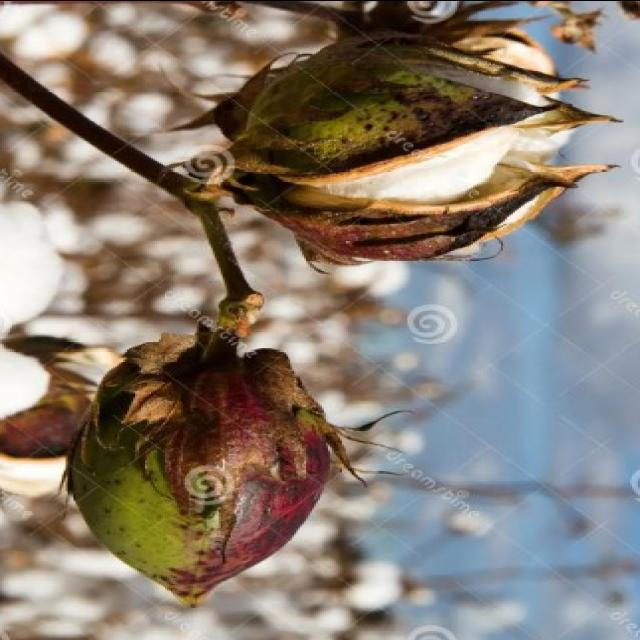Early Boll: (68, 340, 336, 583)
Split Cotton Boll: (204, 31, 576, 252)
